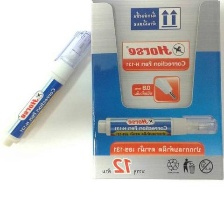book: (87, 0, 224, 183)
correction_fluid: (0, 29, 96, 150)
